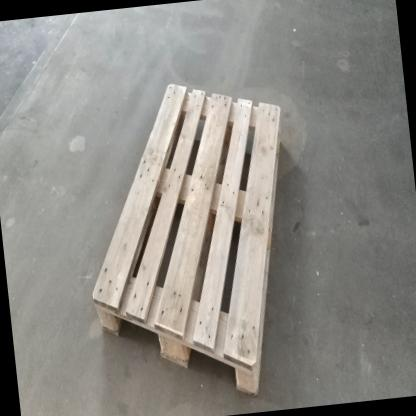BoxFace: (91, 82, 284, 399)
